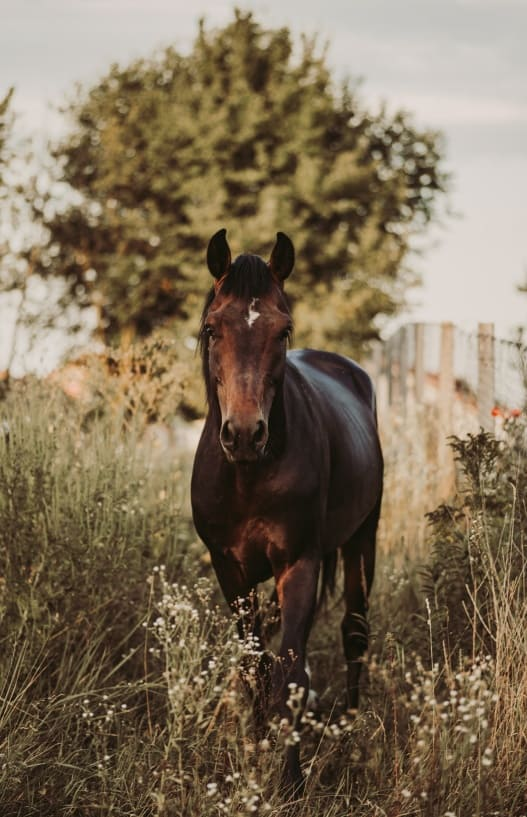horse: (186, 239, 383, 747)
